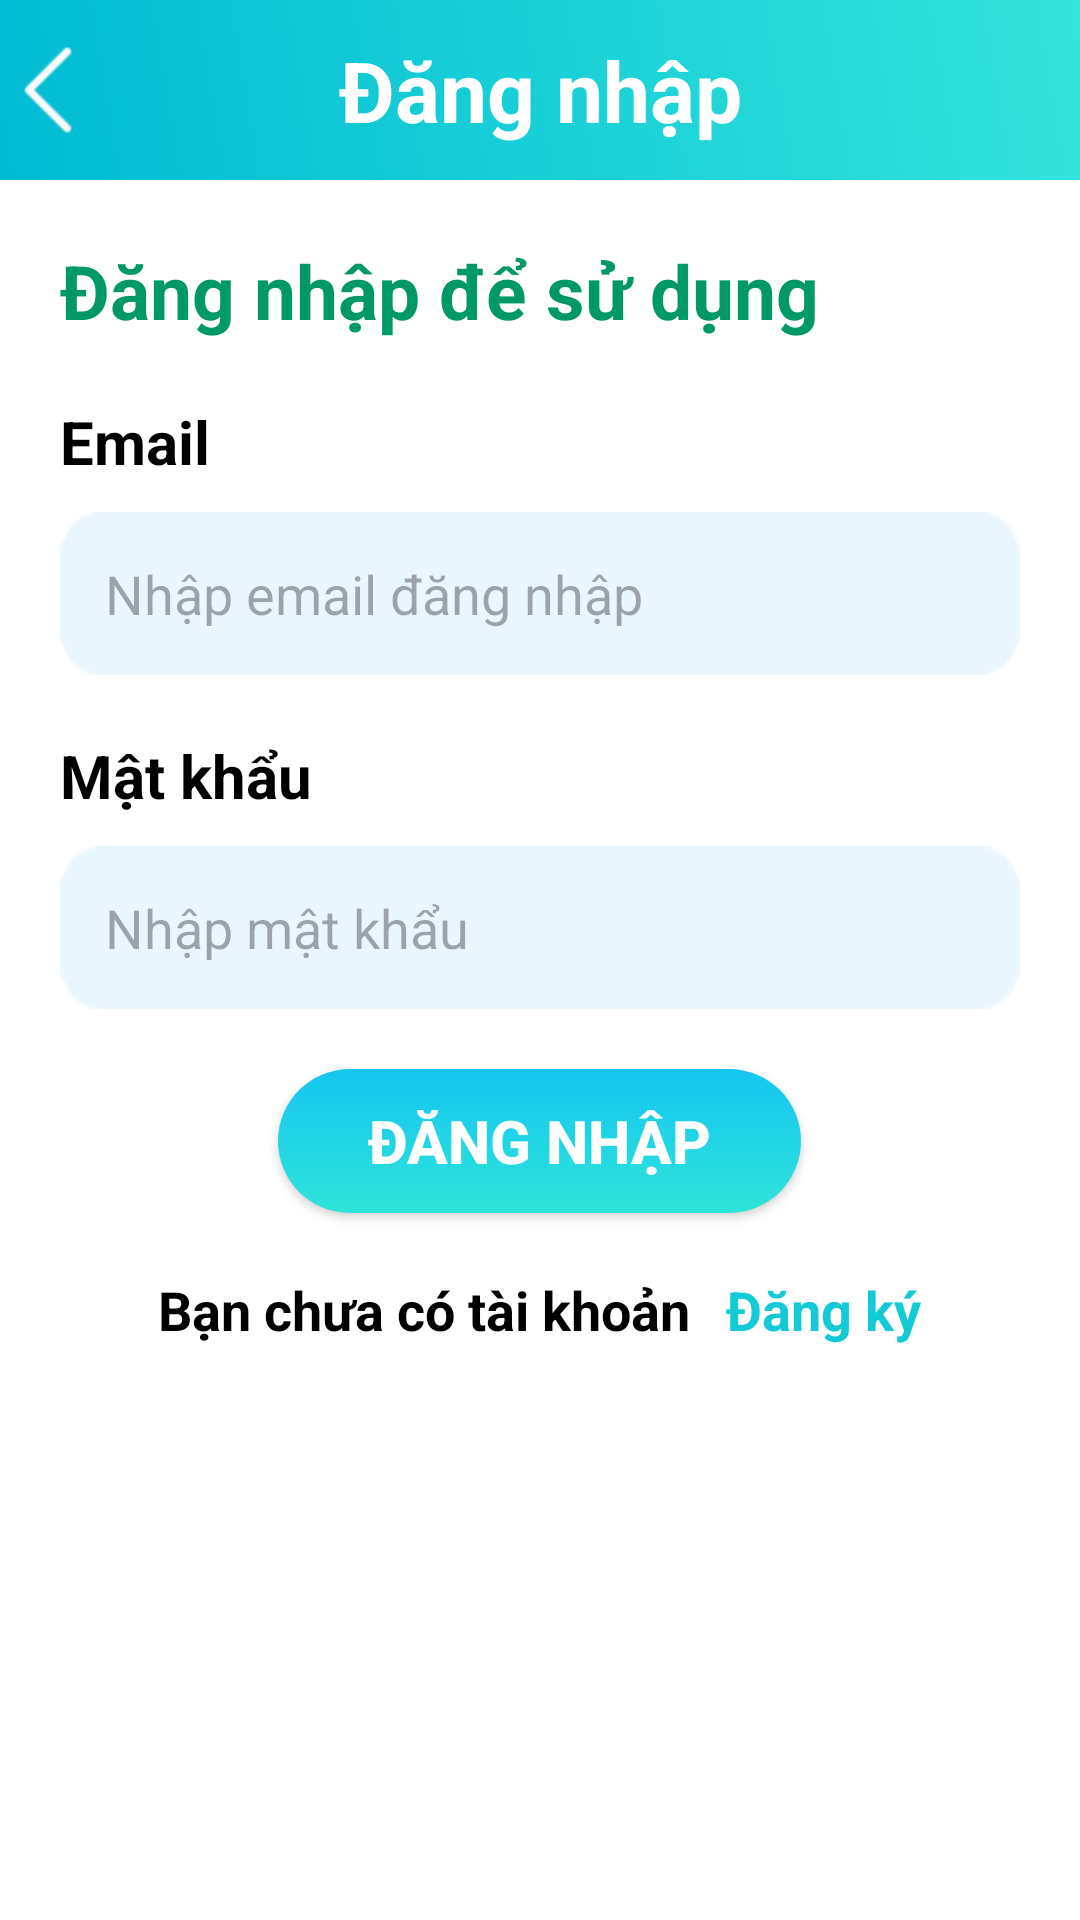

Locate icon controls on the screen. Image size 1080px x 1920px, boxes as (x1, y1, x2, y2).
back: (24, 47, 72, 133)
